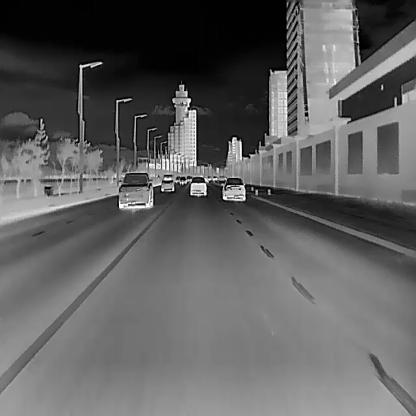car: (118, 171, 153, 209), (220, 176, 245, 201), (189, 175, 206, 196), (161, 172, 174, 192), (179, 176, 185, 184)
